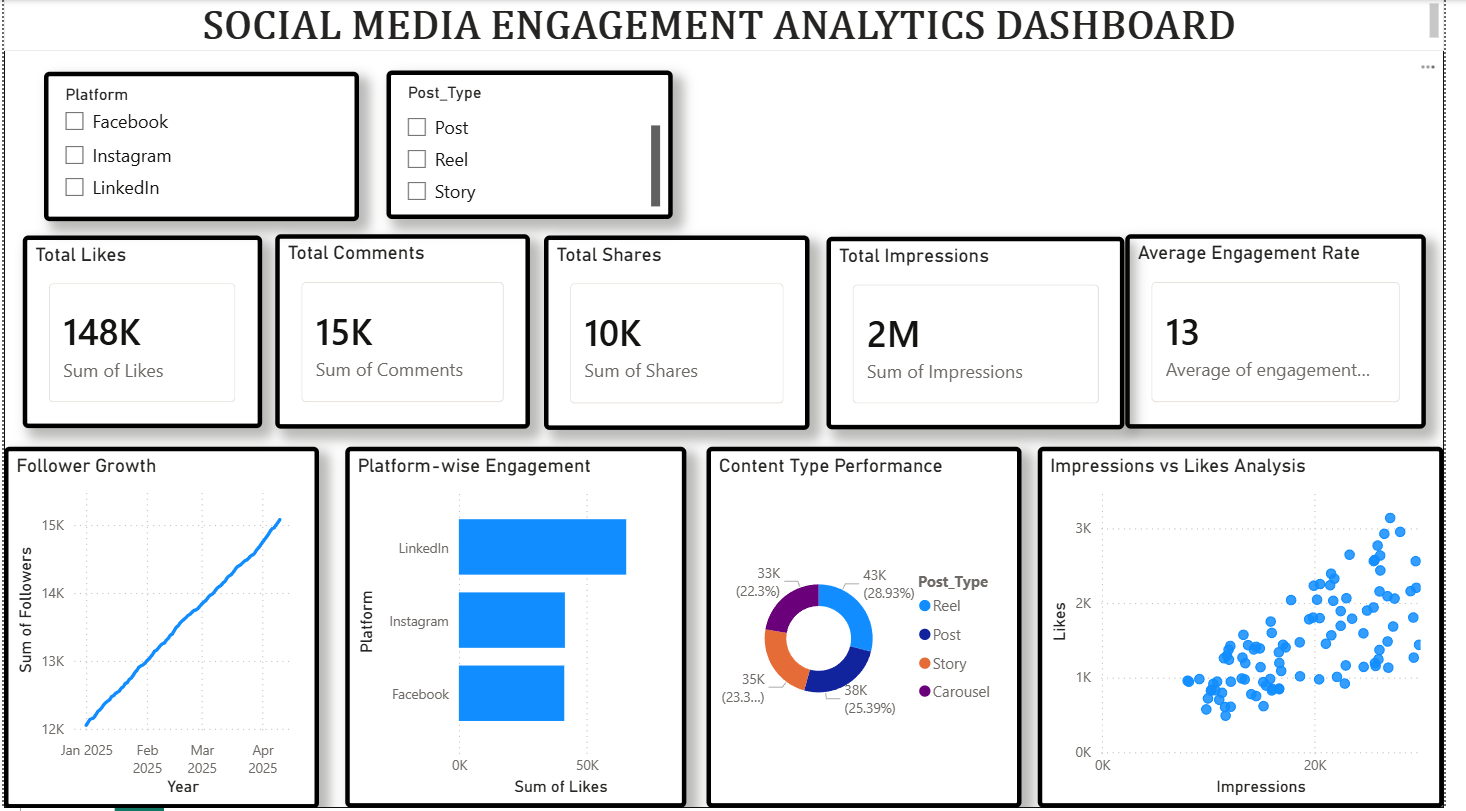

Layout of this report page (visuals, bound fields, positions):
{"tool":"powerbi","page":{"name":"Page 1","canvas":[1280,720],"ordinal":0},"visuals":[{"type":"lineChart","title":"Follower Growth","fields":{"Y":["Sum(social_media_engagement_100_rows.Followers)"],"Category":["social_media_engagement_100_rows.Date.Variation.Date Hierarchy.Year","social_media_engagement_100_rows.Date.Variation.Date Hierarchy.Quarter","social_media_engagement_100_rows.Date.Variation.Date Hierarchy.Month","social_media_engagement_100_rows.Date.Variation.Date Hierarchy.Day"]},"box":[0,398.8,280,321.2],"z":0},{"type":"clusteredBarChart","title":"Platform-wise Engagement","fields":{"Category":["social_media_engagement_100_rows.Platform"],"Y":["Sum(social_media_engagement_100_rows.Likes)"]},"box":[303.3,398.9,303.3,321.1],"z":1},{"type":"donutChart","title":"Content Type Performance","fields":{"Category":["social_media_engagement_100_rows.Post_Type"],"Y":["Sum(social_media_engagement_100_rows.Likes)"]},"box":[624.4,398.9,280,321.1],"z":2},{"type":"scatterChart","title":"Impressions vs Likes Analysis","fields":{"X":["social_media_engagement_100_rows.Impressions"],"Y":["social_media_engagement_100_rows.Likes"]},"box":[918.9,398.9,361.1,321.1],"z":3},{"type":"cardVisual","title":"Total Likes","fields":{"Data":["Sum(social_media_engagement_100_rows.Likes)"]},"box":[16.2,211.2,212.5,171.2],"z":4},{"type":"cardVisual","title":"Total Comments","fields":{"Data":["Sum(social_media_engagement_100_rows.Comments)"]},"box":[241.2,210,226.2,172.5],"z":5},{"type":"cardVisual","title":"Total Shares","fields":{"Data":["Sum(social_media_engagement_100_rows.Shares)"]},"box":[480,211.2,236.2,172.5],"z":6},{"type":"cardVisual","title":"Average Engagement Rate","fields":{"Data":["Avg(social_media_engagement_100_rows.engagement rate)"]},"box":[996.2,210,267.5,172.5],"z":7},{"type":"slicer","fields":{"Values":["social_media_engagement_100_rows.Platform"]},"box":[35,65,280,132.5],"z":8},{"type":"slicer","fields":{"Values":["social_media_engagement_100_rows.Post_Type"]},"box":[340,64.4,254.4,132.2],"z":9},{"type":"cardVisual","title":"Total Impressions","fields":{"Data":["Sum(social_media_engagement_100_rows.Impressions)"]},"box":[731.2,212.5,265,171.2],"z":10},{"type":"textbox","box":[0,0,1280,46.2],"z":11}]}

Visuals, with their boxes in screenshot pixels (x1, y1, x2, y2), scaled from the page's 1280x720 canvas onto the 1466x811 screenshot:
"Follower Growth" lineChart: pyautogui.locateOnScreen(0, 449, 321, 810)
"Platform-wise Engagement" clusteredBarChart: pyautogui.locateOnScreen(347, 449, 695, 810)
"Content Type Performance" donutChart: pyautogui.locateOnScreen(715, 449, 1036, 810)
"Impressions vs Likes Analysis" scatterChart: pyautogui.locateOnScreen(1052, 449, 1465, 810)
"Total Likes" cardVisual: pyautogui.locateOnScreen(19, 238, 262, 431)
"Total Comments" cardVisual: pyautogui.locateOnScreen(276, 237, 535, 431)
"Total Shares" cardVisual: pyautogui.locateOnScreen(550, 238, 820, 432)
"Average Engagement Rate" cardVisual: pyautogui.locateOnScreen(1141, 237, 1447, 431)
slicer - social_media_engagement_100_rows.Platform: pyautogui.locateOnScreen(40, 73, 361, 222)
slicer - social_media_engagement_100_rows.Post_Type: pyautogui.locateOnScreen(389, 73, 681, 221)
"Total Impressions" cardVisual: pyautogui.locateOnScreen(837, 239, 1141, 432)
textbox: pyautogui.locateOnScreen(0, 0, 1465, 52)
